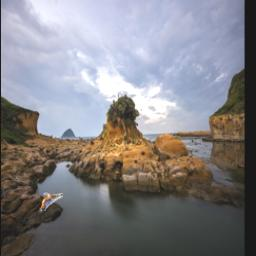Swallow: (40, 192, 64, 212)
